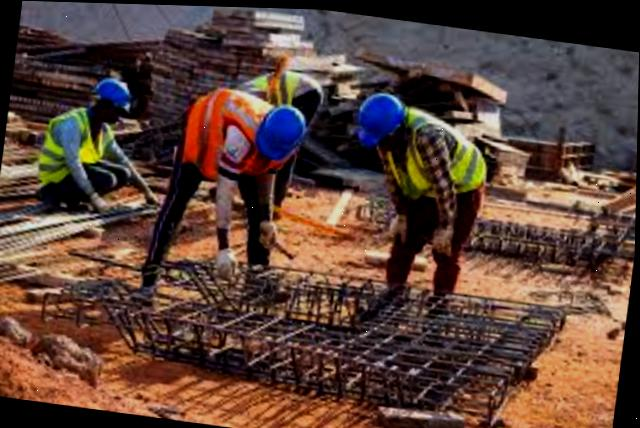helmet: (255, 102, 309, 163), (353, 84, 403, 146), (90, 72, 145, 112)
vest: (375, 103, 506, 203), (177, 84, 265, 182), (31, 107, 123, 193), (245, 63, 302, 105)
